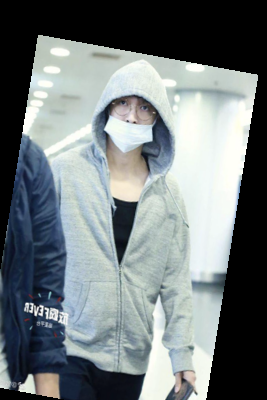mask_weared_incorrect: (89, 53, 178, 159)
